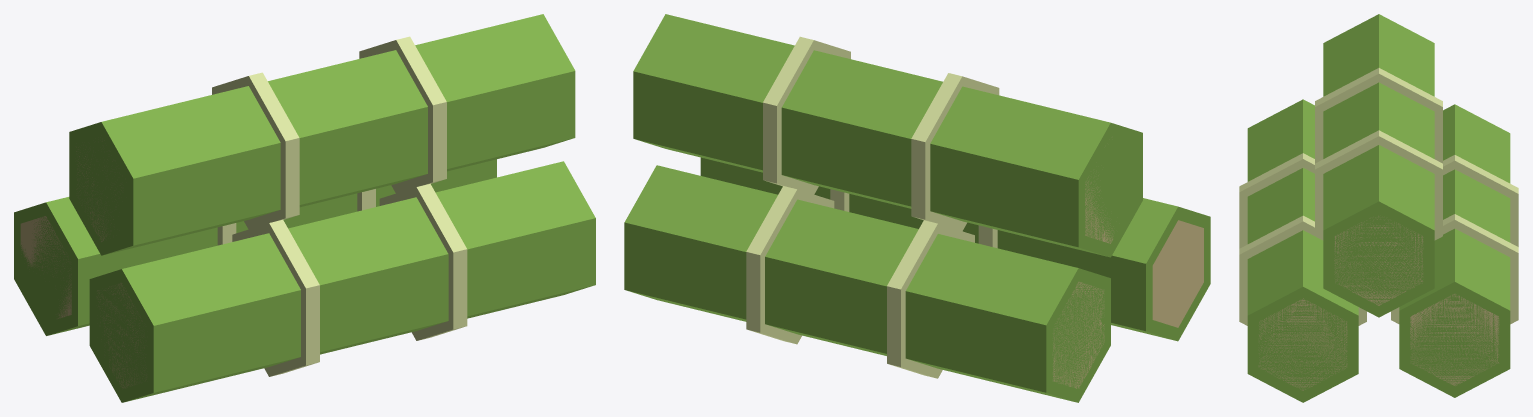
File: bamboo-crop.glb
The picture shows the model from 3 angles, left to right: view 1: azimuth 30°, elevation 25°; view 2: azimuth 150°, elevation 25°; view 3: azimuth 270°, elevation 25°; orthographic projection. The views are drawn at different scales.
Parts seen in each view (by area): view 1: bamboo-crop; view 2: bamboo-crop; view 3: bamboo-crop.
Boxes of the visible parts, box(x1,y1,x2,y2) form: bamboo-crop: box(14, 14, 595, 402); bamboo-crop: box(624, 14, 1210, 402); bamboo-crop: box(1239, 14, 1518, 402).
Size of the model in its own units: 0.4 by 0.2165 by 0.2396.
1 material, 1 textured.
